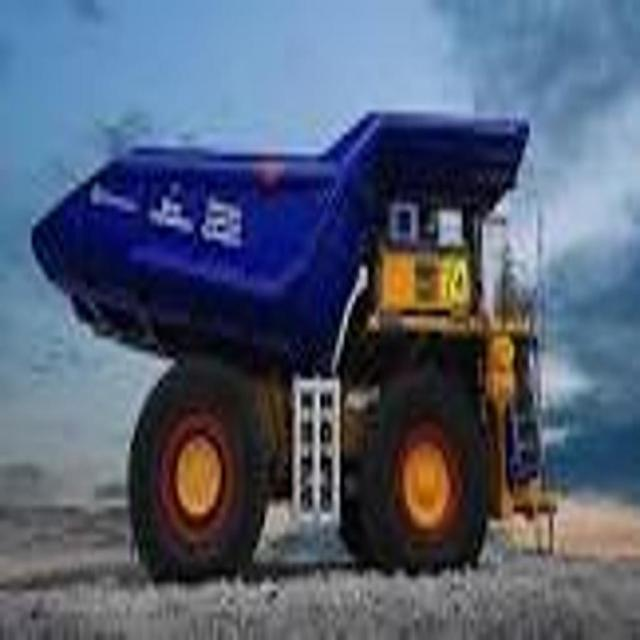dump_truck: (28, 22, 566, 609)
